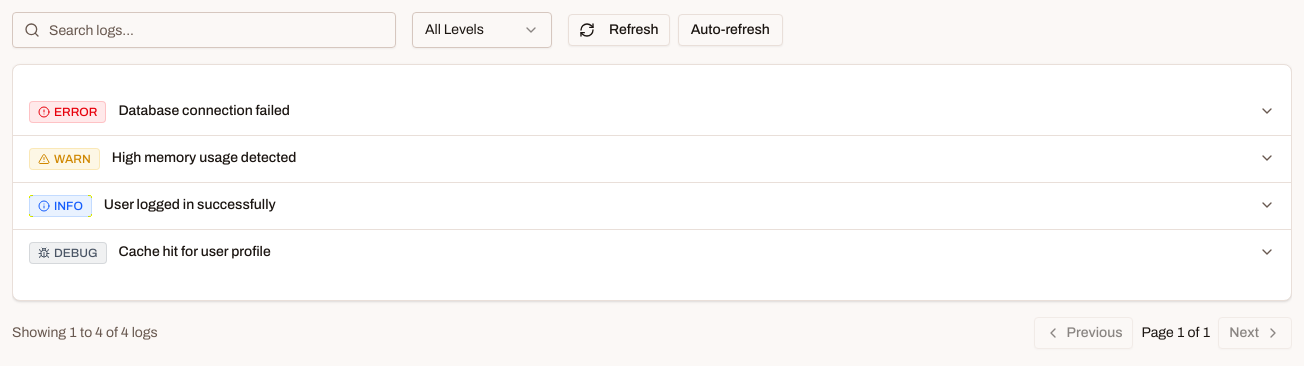
components/admin/logs-viewer › refresh functionality › should show loading state during refresh
// Click refresh button
Click the button "Refresh" at (619, 30), box [568,14,670,46]
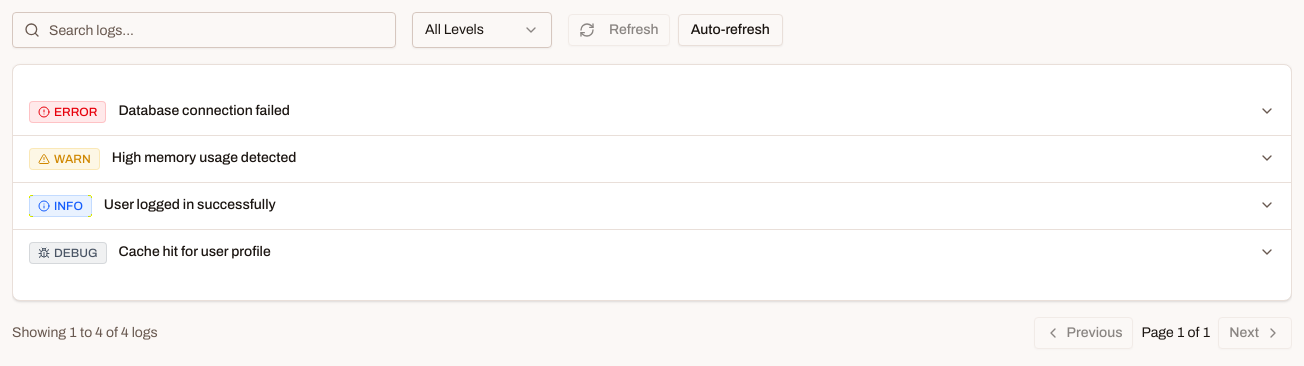
Result: the button "Refresh" is disabled at [568,14,670,46]
